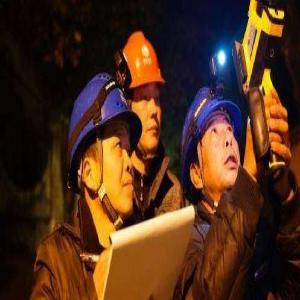blue: (67, 65, 139, 225), (181, 86, 242, 202)
yellow: (120, 29, 165, 160)
